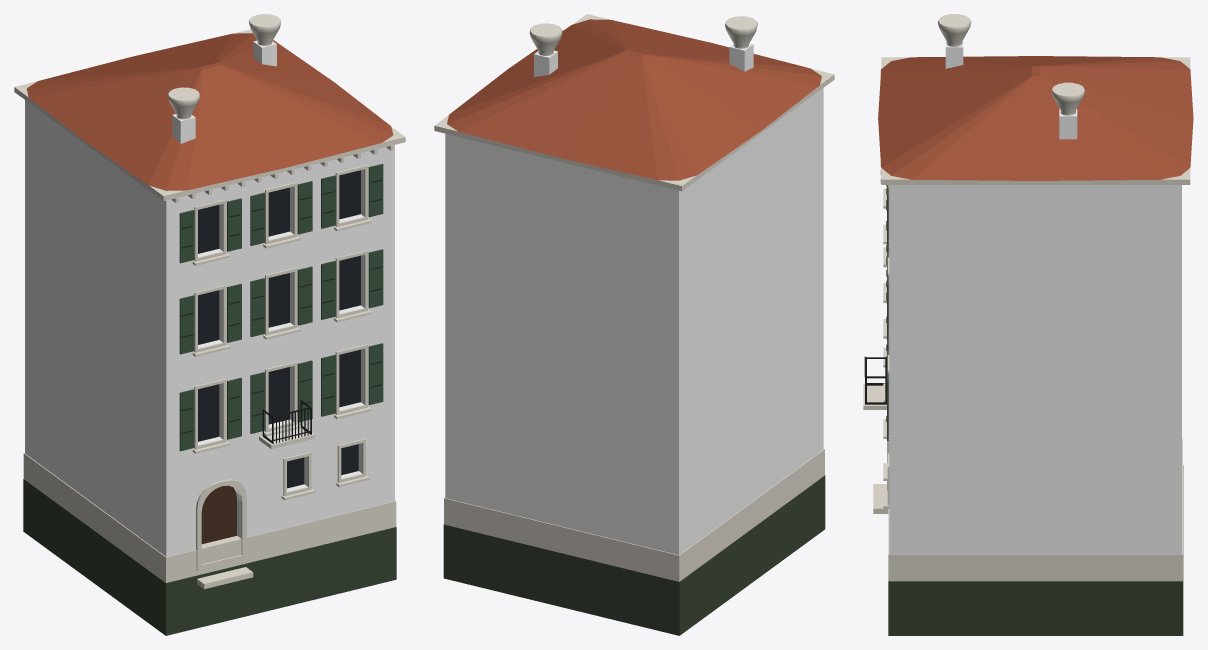
The model's file is casa-shutters.glb.
The picture shows the model from 3 angles, left to right: view 1: azimuth 30°, elevation 25°; view 2: azimuth 150°, elevation 25°; view 3: azimuth 270°, elevation 25°; orthographic projection. The views are drawn at different scales.
Parts seen in each view (by area): view 1: wall96, roof99, algae98, stone97, stone100, wood1, stone0, glass28, glass10, glass19, glass43, glass52 (+36 smaller); view 2: wall96, roof99, algae98, stone97, stone100, stone105, stone103, wall102; view 3: wall96, roof99, algae98, stone97, stone100, stone105, stone103, wall104, stone36.
Boxes of the visible parts, x1,y1,x2,y2 form: wall96: (25,100,394,556); roof99: (26,33,393,190); algae98: (23,479,396,635); stone97: (23,453,396,582); stone100: (14,29,405,201); wood1: (201,485,236,544); stone0: (196,479,246,570); glass28: (339,349,360,407); glass10: (198,384,219,441); glass19: (268,367,289,424); glass43: (198,290,219,344); glass52: (268,273,289,327); wall96: (445,88,823,554); roof99: (447,19,821,180); algae98: (443,475,825,635); stone97: (444,449,824,581); stone100: (434,14,834,191); stone105: (529,23,562,55); stone103: (725,16,757,48); wall102: (729,43,753,71); wall96: (889,185,1181,554); roof99: (878,56,1193,180); algae98: (888,465,1183,635); stone97: (888,438,1182,581); stone100: (881,57,1190,184); stone105: (1051,82,1085,115); stone103: (937,14,971,46); wall104: (1059,109,1077,139); stone36: (863,384,886,409).
Bounding box in the file's own units: 9.1 × 17.78 × 10.15.
